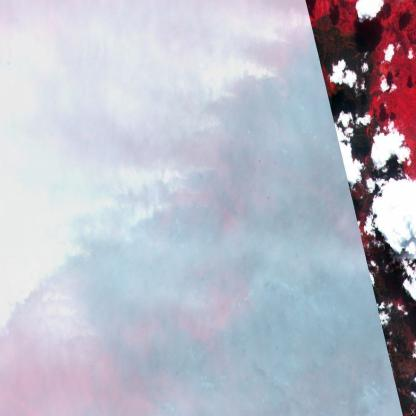fire: (42, 21, 320, 388)
